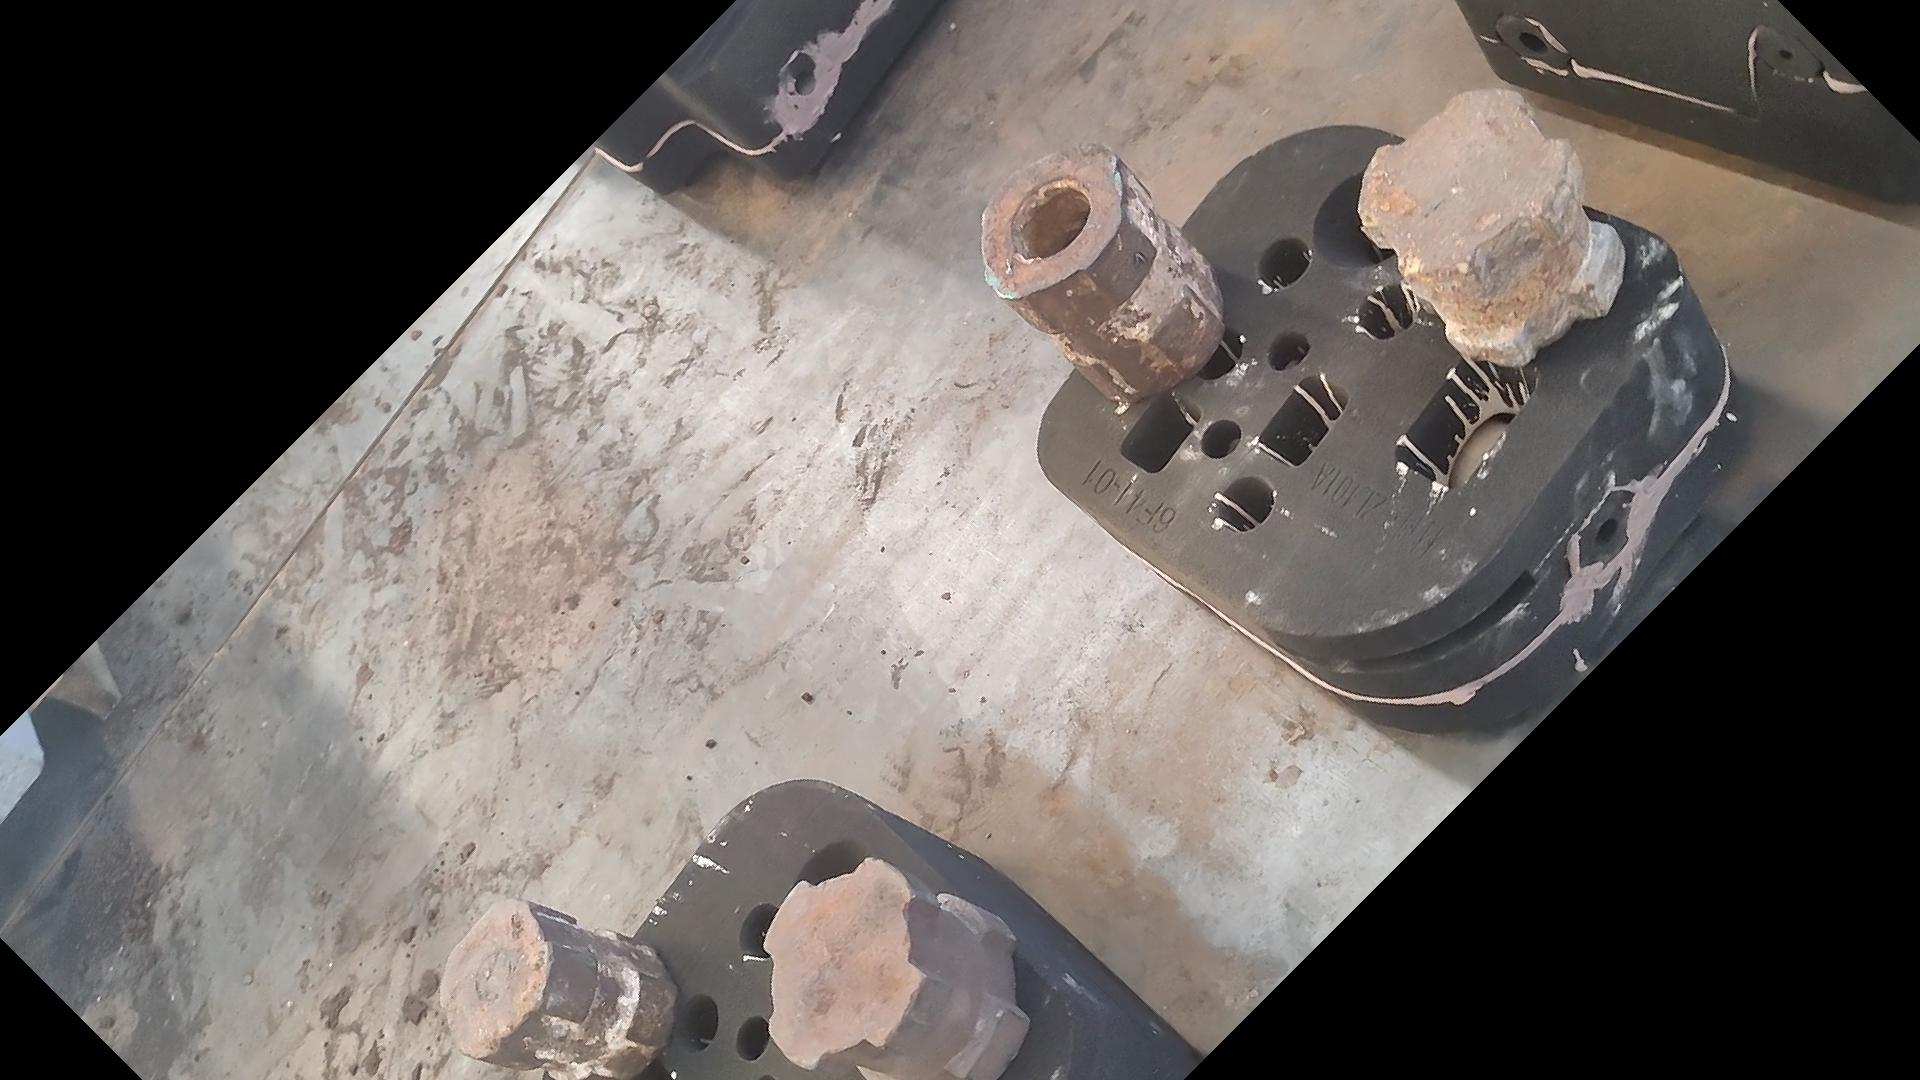pouring hole: (785, 839, 905, 931), (1313, 162, 1414, 270)
